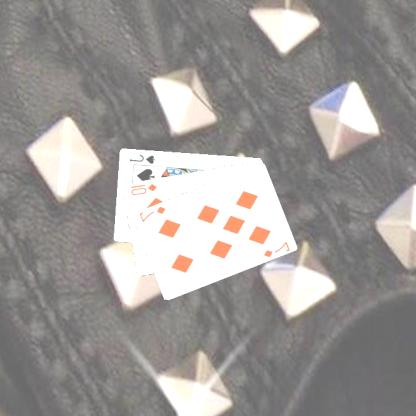10D: (129, 180, 160, 196)
7D: (138, 203, 169, 224), (262, 238, 293, 258)
JS: (128, 151, 159, 165)
